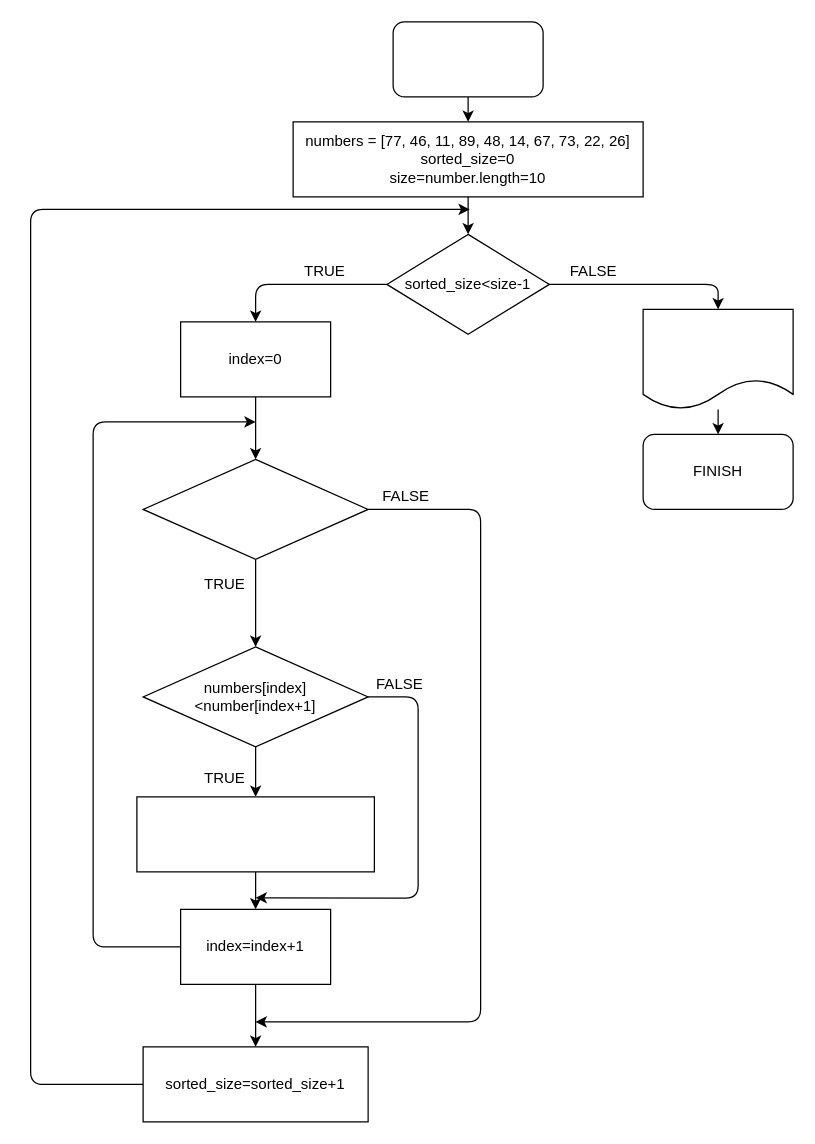
Image size: 815x1144. Some labels were removed from this diagram. Each missing label, with the centre of its shape:
"index<(size-1-sorted_size)" goes at (255,508).
"print (numbers)" goes at (717,358).
"START" goes at (467,59).
"temp=numbers[index] numbers[index]=numbers[index+1] number[index+1]=temp" goes at (255,834).
